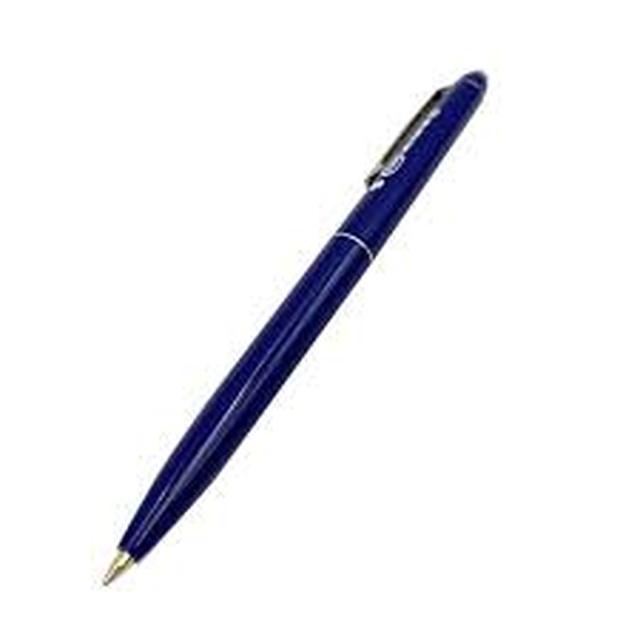pen: (98, 64, 495, 612)
